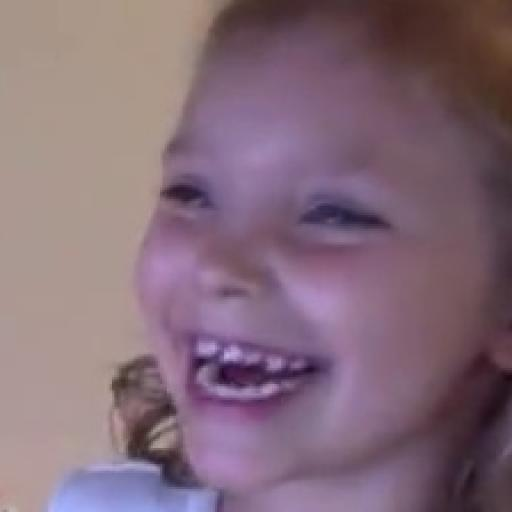Autism: (122, 2, 512, 511)
